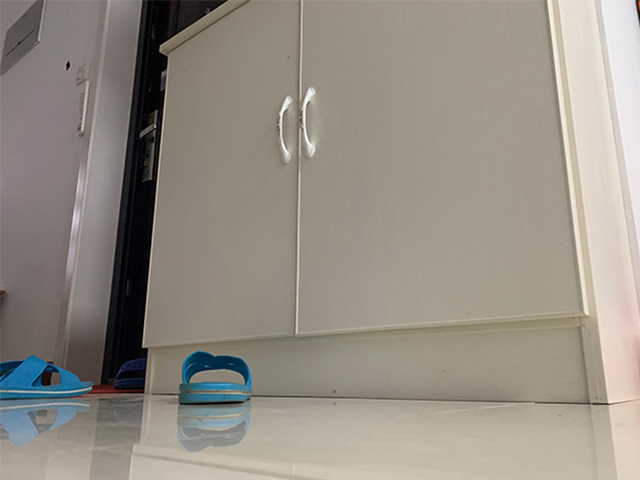cabinet: (142, 1, 640, 406)
carpet: (89, 382, 145, 394)
slippers: (1, 354, 93, 400), (178, 350, 252, 404), (112, 357, 147, 390)
